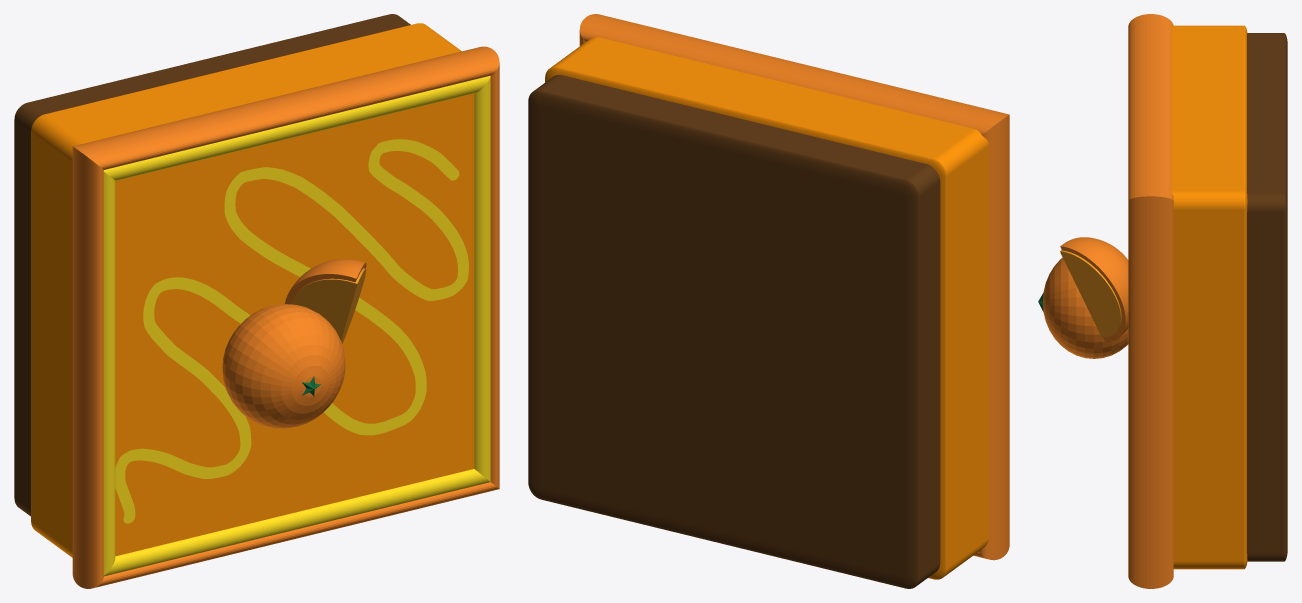
The model's file is tinker.obj.
3 renders of one model, left to right at view 1: azimuth 30°, elevation 25°; view 2: azimuth 150°, elevation 25°; view 3: azimuth 270°, elevation 25°, orthographic. The views are drawn at different scales.
Parts seen in each view (by area): view 1: group_0_16748800, group_0_16089887, group_0_16768282, group_0_6306067, group_0_16096031; view 2: group_0_6306067, group_0_16748800, group_0_16089887; view 3: group_0_16748800, group_0_16089887, group_0_6306067, group_0_16096031.
Part boxes in pixels (left/top/right/bottom): group_0_16748800: left=31, top=23, right=474, bottom=557; group_0_16089887: left=72, top=46, right=499, bottom=588; group_0_16768282: left=103, top=76, right=490, bottom=576; group_0_6306067: left=14, top=14, right=410, bottom=516; group_0_16096031: left=291, top=268, right=366, bottom=343; group_0_6306067: left=528, top=75, right=940, bottom=588; group_0_16748800: left=545, top=37, right=988, bottom=579; group_0_16089887: left=579, top=14, right=1009, bottom=560; group_0_16748800: left=1171, top=25, right=1247, bottom=569; group_0_16089887: left=1043, top=14, right=1173, bottom=588; group_0_6306067: left=1247, top=33, right=1287, bottom=561; group_0_16096031: left=1060, top=250, right=1121, bottom=336.
Bounding box in the file's own units: 75.71 × 76 × 43.8.
